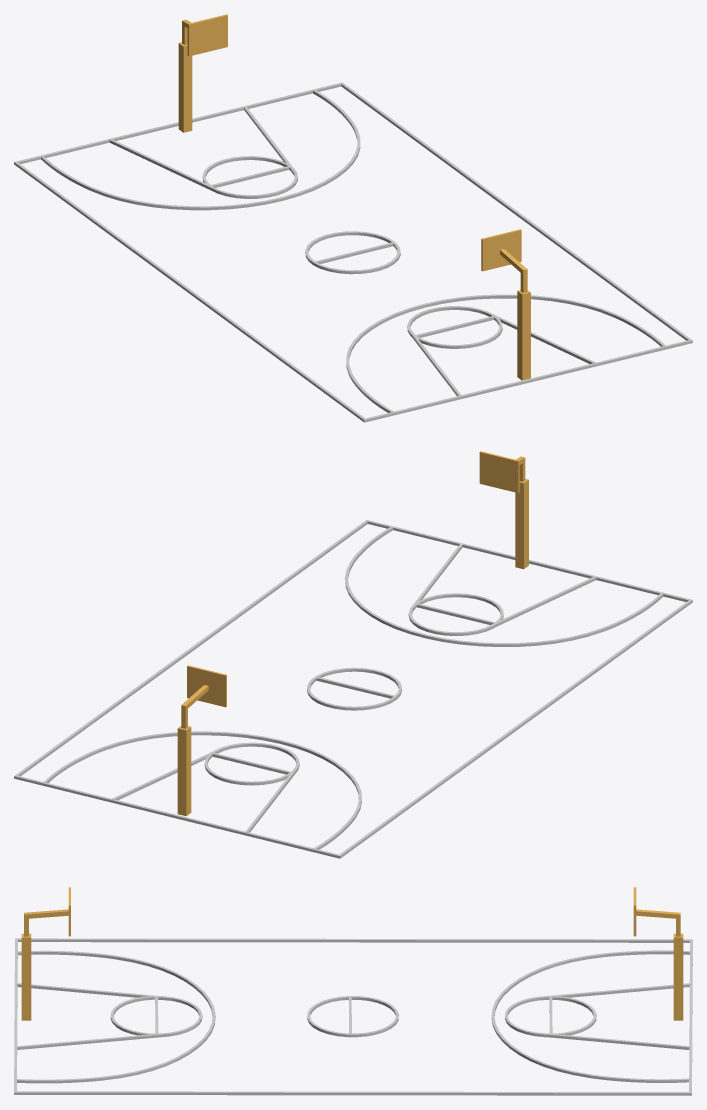
File: 篮球场.FBX
3 renders of one model, top to bottom at view 1: azimuth 30°, elevation 25°; view 2: azimuth 150°, elevation 25°; view 3: azimuth 270°, elevation 25°, orthographic. The views are drawn at different scales.
Visible parts, largest first — view 1: lqc08, lqc01, lqc00, lqc10, lqc11, lqc07, lqc05, lqc06, lqc09, lqc12; view 2: lqc08, lqc00, lqc01, lqc11, lqc10, lqc07, lqc06, lqc12, lqc05, lqc09; view 3: lqc08, lqc11, lqc10, lqc00, lqc01, lqc12, lqc09, lqc07, lqc05, lqc06.
Boxes of the visible parts, bbox=[...] form: lqc08: bbox=[14, 82, 692, 422]; lqc01: bbox=[481, 229, 530, 380]; lqc00: bbox=[178, 14, 227, 132]; lqc10: bbox=[40, 89, 360, 210]; lqc11: bbox=[346, 294, 665, 412]; lqc07: bbox=[305, 231, 400, 274]; lqc05: bbox=[202, 156, 297, 198]; lqc06: bbox=[407, 306, 502, 348]; lqc09: bbox=[109, 106, 296, 193]; lqc12: bbox=[407, 311, 596, 396]; lqc08: bbox=[14, 520, 692, 858]; lqc00: bbox=[177, 665, 226, 816]; lqc01: bbox=[479, 451, 528, 569]; lqc11: bbox=[345, 526, 663, 646]; lqc10: bbox=[43, 731, 361, 849]; lqc07: bbox=[307, 667, 401, 710]; lqc06: bbox=[408, 593, 503, 635]; lqc12: bbox=[410, 543, 596, 631]; lqc05: bbox=[204, 742, 299, 785]; lqc09: bbox=[111, 747, 298, 832]; lqc08: bbox=[14, 938, 692, 1095]; lqc11: bbox=[15, 950, 215, 1083]; lqc10: bbox=[491, 950, 691, 1082]; lqc00: bbox=[633, 887, 683, 1020]; lqc01: bbox=[21, 887, 70, 1020]; lqc12: bbox=[16, 983, 173, 1049]; lqc09: bbox=[533, 983, 691, 1049]; lqc07: bbox=[307, 996, 398, 1037]; lqc05: bbox=[505, 996, 596, 1037]; lqc06: bbox=[110, 996, 202, 1036].
Size of the model in its own units: 1520 by 559 by 2816.
